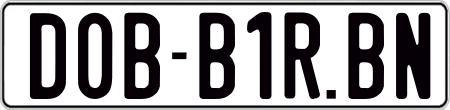0: (76, 10, 114, 99)
1: (244, 12, 268, 100)
B: (346, 13, 386, 104), (199, 13, 236, 105), (122, 10, 159, 96)
D: (28, 13, 65, 100)
N: (394, 13, 432, 103)
R: (284, 10, 320, 97)
